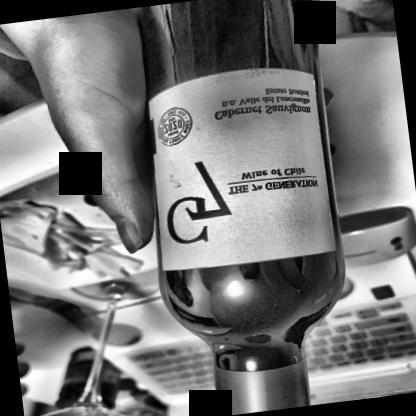G7: (140, 58, 336, 274)
